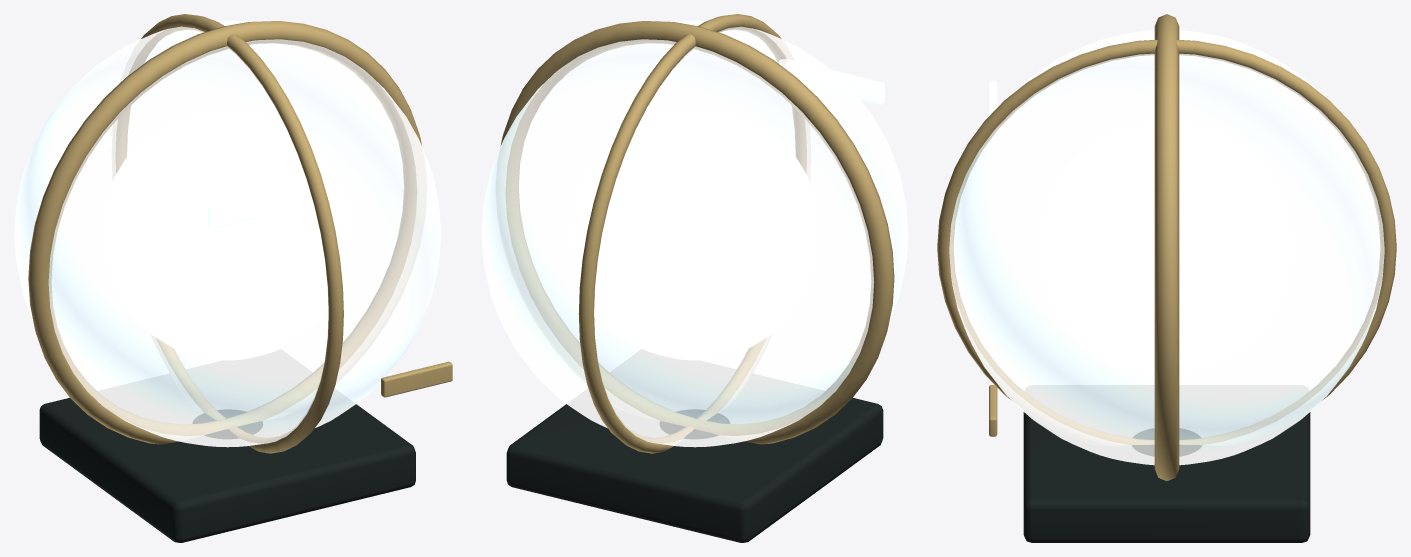
File: age_museum_puzzle_orb_white.glb
3 views of the same model, side by side, from view 1: azimuth 30°, elevation 25°; view 2: azimuth 150°, elevation 25°; view 3: azimuth 270°, elevation 25° (orthographic). The views are drawn at different scales.
Parts seen in each view (by area): view 1: puzzle_orb_white_outer_glass, puzzle_orb_white_core, puzzle_orb_white_base_socket, puzzle_orb_white_equator_brass, puzzle_orb_white_vertical_brass, puzzle_orb_white_cyan_reflection_plate, puzzle_orb_white_small_accession_tag; view 2: puzzle_orb_white_outer_glass, puzzle_orb_white_core, puzzle_orb_white_base_socket, puzzle_orb_white_equator_brass, puzzle_orb_white_vertical_brass, puzzle_orb_white_cyan_reflection_plate; view 3: puzzle_orb_white_outer_glass, puzzle_orb_white_core, puzzle_orb_white_base_socket, puzzle_orb_white_vertical_brass, puzzle_orb_white_equator_brass.
Boxes of the visible parts, box(x1,y1,x2,y2) form: puzzle_orb_white_outer_glass: box(14, 20, 441, 447); puzzle_orb_white_core: box(101, 107, 353, 359); puzzle_orb_white_base_socket: box(39, 398, 415, 542); puzzle_orb_white_equator_brass: box(28, 21, 421, 444); puzzle_orb_white_vertical_brass: box(115, 14, 343, 453); puzzle_orb_white_cyan_reflection_plate: box(208, 183, 312, 229); puzzle_orb_white_small_accession_tag: box(381, 361, 452, 397); puzzle_orb_white_outer_glass: box(481, 20, 908, 447); puzzle_orb_white_core: box(568, 107, 821, 359); puzzle_orb_white_base_socket: box(506, 398, 883, 542); puzzle_orb_white_equator_brass: box(500, 21, 894, 444); puzzle_orb_white_vertical_brass: box(578, 14, 806, 453); puzzle_orb_white_cyan_reflection_plate: box(779, 59, 884, 104); puzzle_orb_white_outer_glass: box(949, 30, 1384, 465); puzzle_orb_white_core: box(1037, 119, 1296, 375); puzzle_orb_white_base_socket: box(1023, 412, 1310, 542); puzzle_orb_white_vertical_brass: box(937, 39, 1396, 444); puzzle_orb_white_equator_brass: box(1154, 14, 1179, 480).
Bounding box in the file's own units: 0.686 × 0.728 × 0.674.
